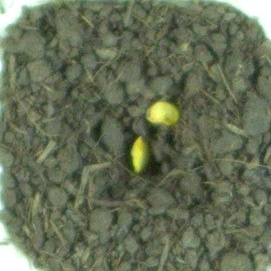chilli seed: (128, 134, 154, 175), (145, 99, 181, 127)
